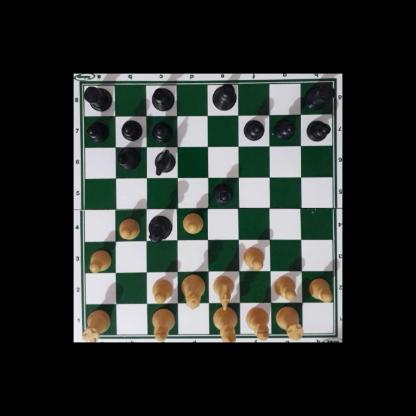black-bishop: (149, 86, 176, 110), (115, 147, 141, 170)
black-king: (212, 83, 238, 111)
black-knight: (153, 149, 174, 174)
black-pawn: (306, 118, 330, 141), (211, 181, 234, 203), (86, 120, 108, 141), (121, 118, 141, 141), (275, 117, 295, 139), (152, 119, 172, 141), (244, 118, 264, 139)
black-queen: (149, 214, 172, 244)
black-rook: (81, 84, 112, 111), (305, 80, 333, 109)
white-bishop: (245, 307, 271, 341), (152, 308, 176, 342)
white-king: (213, 305, 238, 342)
white-knight: (213, 275, 234, 309)
white-pawn: (273, 275, 298, 300), (117, 216, 141, 240), (150, 277, 173, 302), (308, 277, 332, 300), (242, 245, 264, 270), (87, 249, 111, 271), (181, 212, 203, 234)
white-queen: (181, 275, 205, 309)
white-rook: (277, 304, 302, 341), (83, 307, 109, 342)
